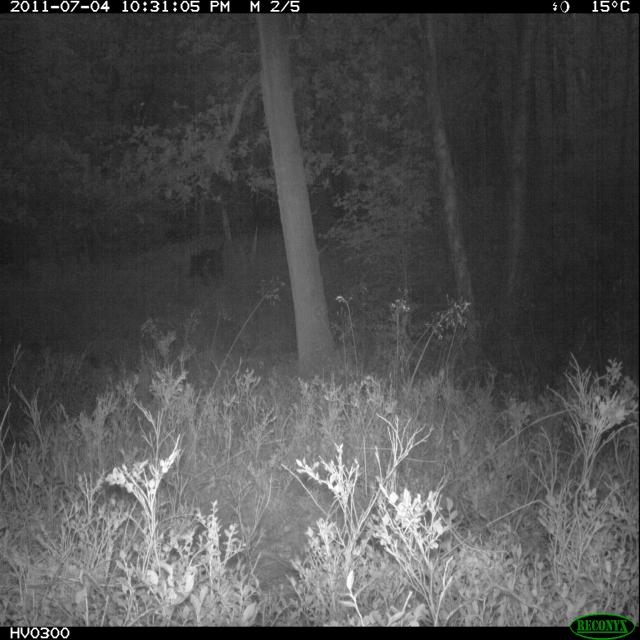boar: (176, 231, 238, 297)
